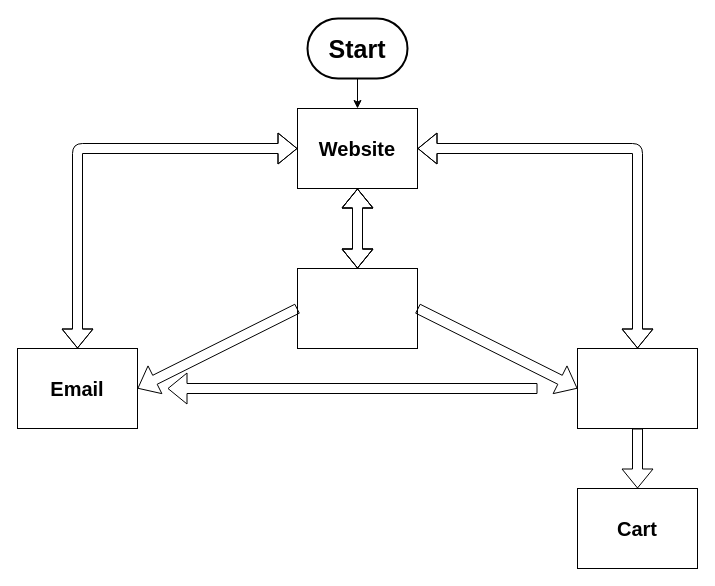
This 715x586 diagram has some shape labels left out. Each missing label, with the centre of its shape:
"MBanking" belongs at point (357, 308).
"Tokomedia" belongs at point (637, 388).
